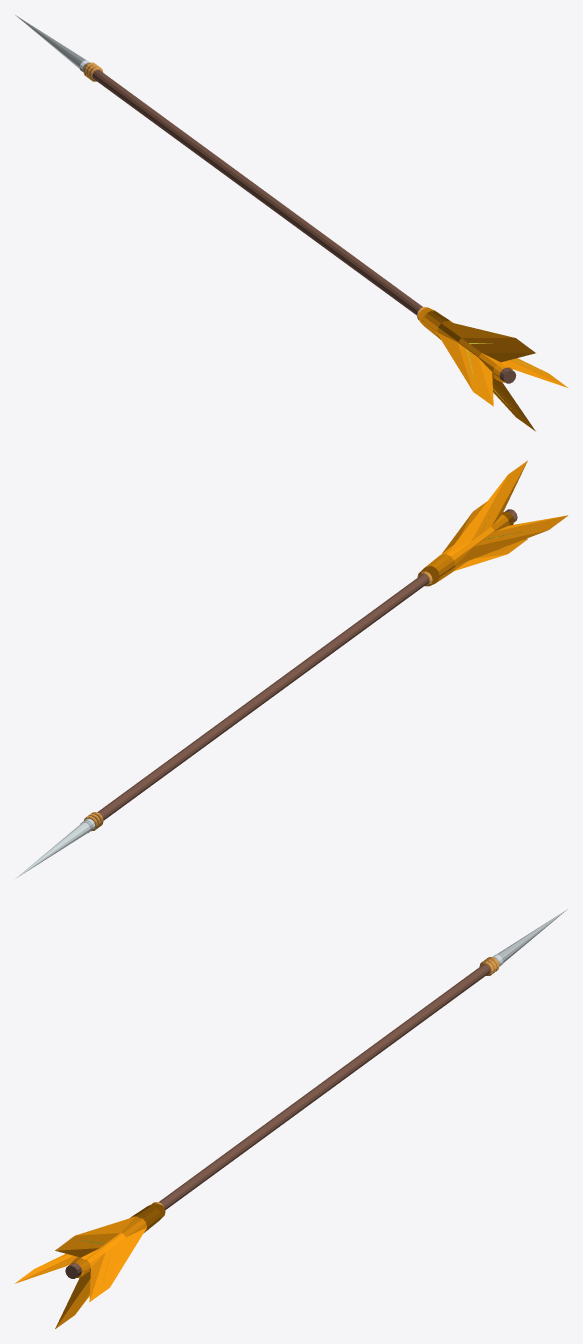
Rendered from Arrow.glb.
3 renders of one model, top to bottom at view 1: azimuth 30°, elevation 25°; view 2: azimuth 150°, elevation 25°; view 3: azimuth 330°, elevation 25°, orthographic.
Parts seen in each view (by area): view 1: Node; view 2: Node; view 3: Node.
Boxes of the visible parts, bbox=[...] form: Node: bbox=[15, 15, 567, 431]; Node: bbox=[14, 460, 568, 879]; Node: bbox=[14, 909, 567, 1328].
Size of the model in its own units: 0.48 by 0.4924 by 5.68.
